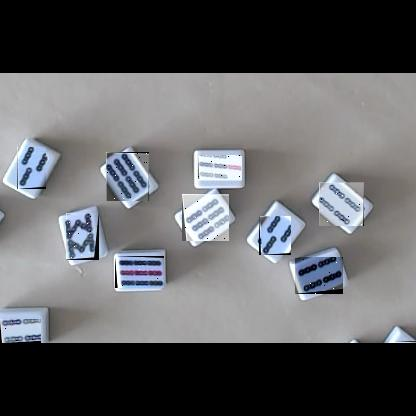1s: (392, 341, 416, 343)
3s: (259, 216, 291, 255), (17, 147, 46, 189)
4s: (319, 182, 364, 226), (295, 257, 343, 294), (0, 319, 41, 343)
6s: (182, 194, 229, 241), (106, 152, 149, 201)
7s: (198, 156, 242, 184)
8s: (66, 213, 99, 260)
9s: (115, 256, 164, 288)
